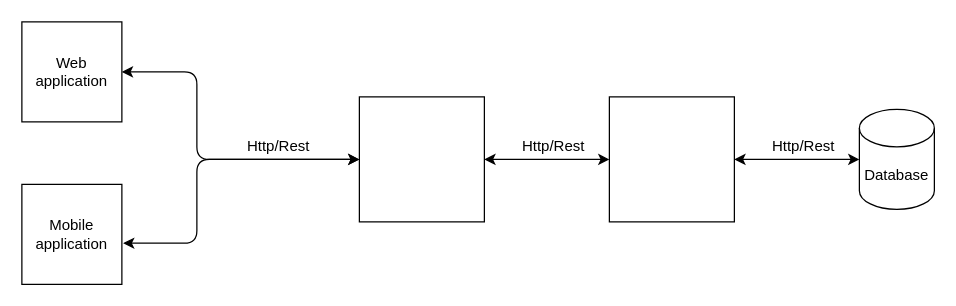
Image size: 956x306. Some labels were removed from this diagram. The shapes that lost their labels are listed below. From the top down, each one's centre as x and y in pixels, then its label:
(x=421, y=159): User application
(x=671, y=159): Database application
